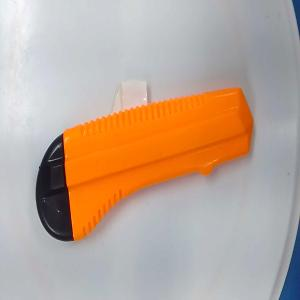estilete: (35, 86, 254, 245)
